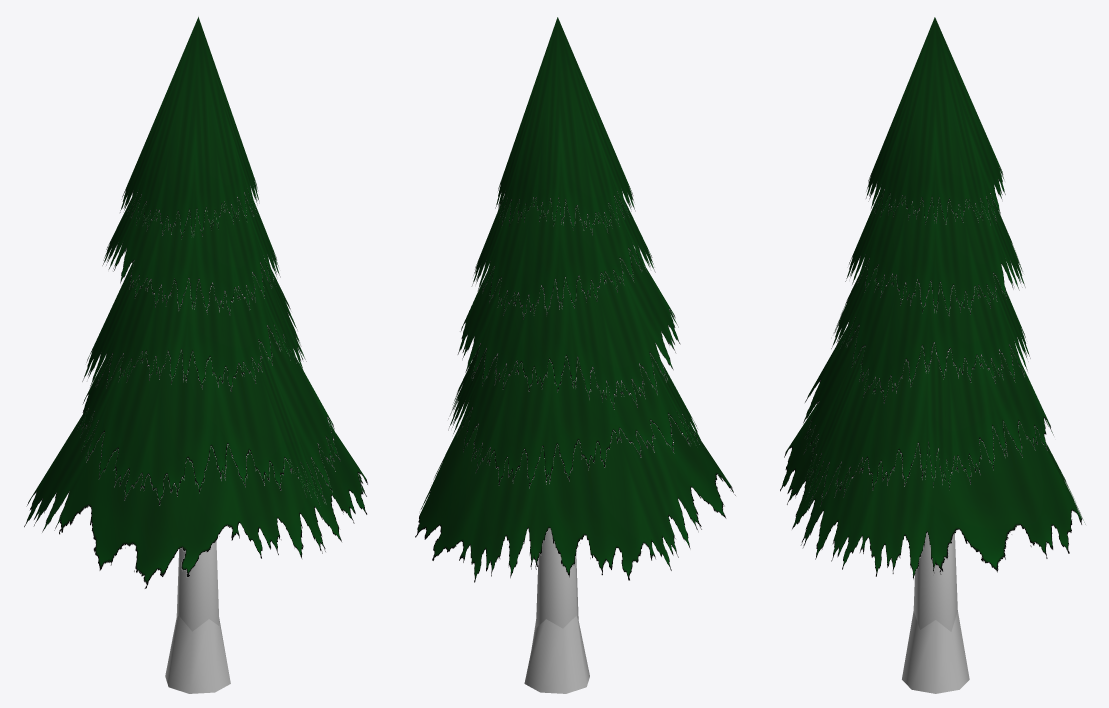
The model's file is Pine1.FBX.
The picture shows the model from 3 angles, left to right: view 1: azimuth 30°, elevation 25°; view 2: azimuth 150°, elevation 25°; view 3: azimuth 270°, elevation 25°; orthographic projection.
Visible parts, largest first — view 1: Folhagem01, Tronco; view 2: Folhagem01, Tronco; view 3: Folhagem01, Tronco.
Part boxes in pixels (x1,y1,x2,y2): Folhagem01: (24,17,367,588); Tronco: (165,16,230,693); Folhagem01: (415,17,735,582); Tronco: (524,528,589,693); Folhagem01: (780,17,1085,579); Tronco: (902,533,969,693).
Bounding box in the file's own units: 170 × 375 × 164.
